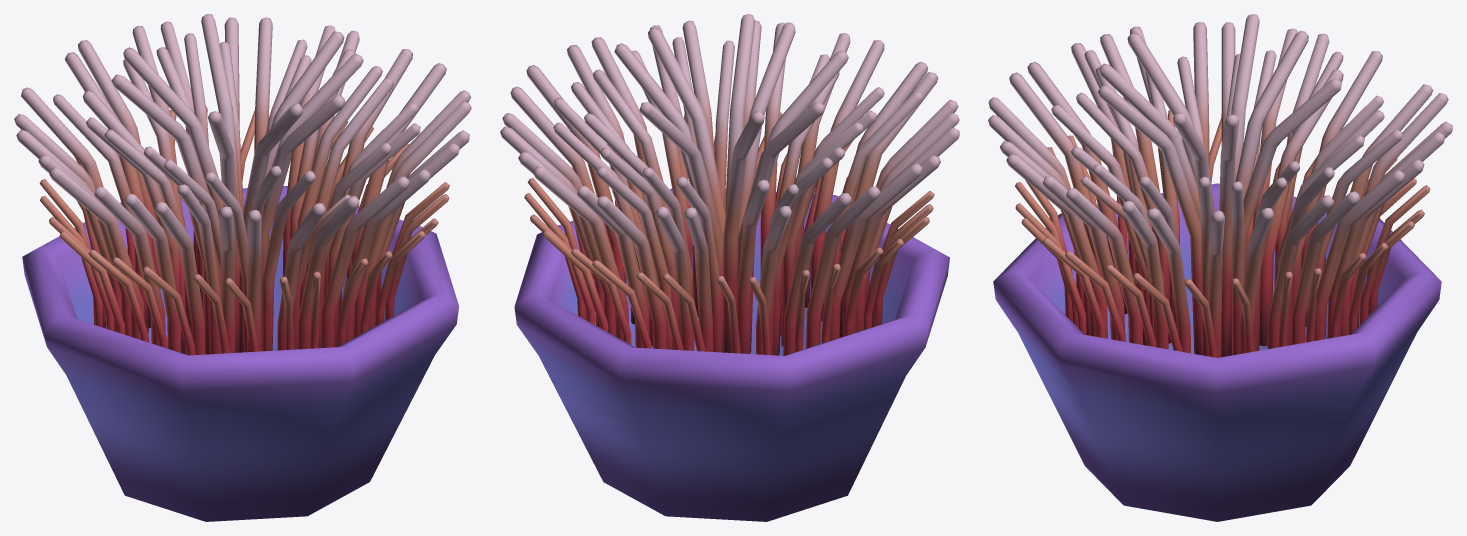
File: Anemone.gltf
3 renders of one model, left to right at view 1: azimuth 30°, elevation 25°; view 2: azimuth 150°, elevation 25°; view 3: azimuth 270°, elevation 25°, orthographic.
Visible parts, largest first — view 1: Anemone; view 2: Anemone; view 3: Anemone.
Part boxes in pixels (x1,y1,x2,y2): Anemone: (14, 14, 471, 521); Anemone: (500, 14, 959, 521); Anemone: (988, 14, 1452, 521).
Bounding box in the file's own units: 2.78 × 2.66 × 2.79.
1 material, 1 textured.
